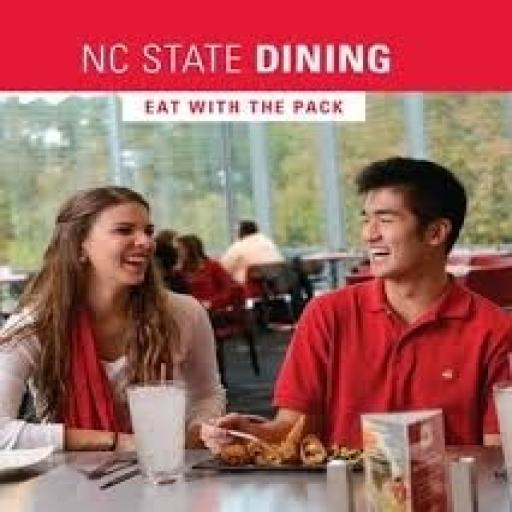eating: (197, 154, 510, 462), (0, 181, 228, 453)
